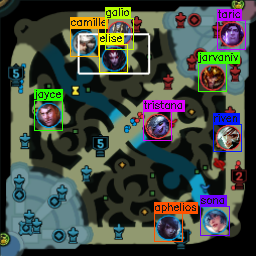aphelios: (154, 215, 180, 240)
camille: (72, 30, 98, 54)
elise: (100, 46, 126, 70)
galio: (106, 21, 130, 45)
jarvaniv: (199, 65, 224, 90)
jayce: (36, 102, 60, 128)
riven: (216, 124, 239, 148)
sona: (202, 209, 227, 233)
taric: (219, 22, 243, 45)
tristana: (145, 113, 170, 138)
